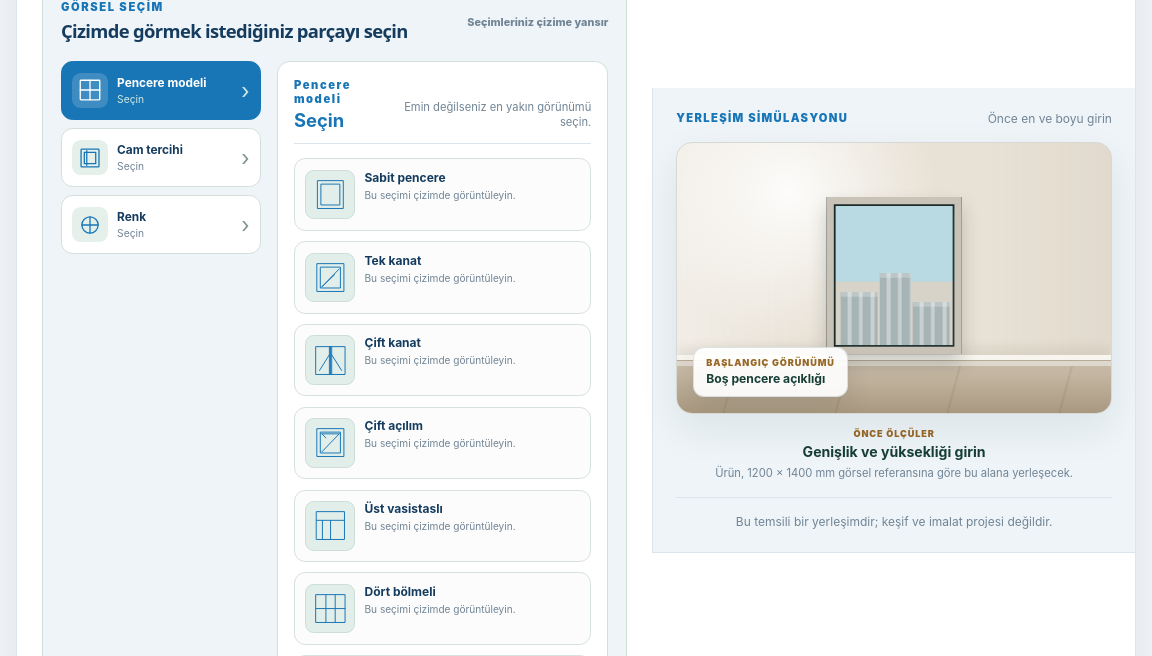
ConfiguratorComponent public boundary › selects a window model from the visual option cards
(page scrolled)
Click the button "Çift kanat Bu seçimi çizimde görüntüleyin." at (443, 360), box [294, 324, 591, 396]
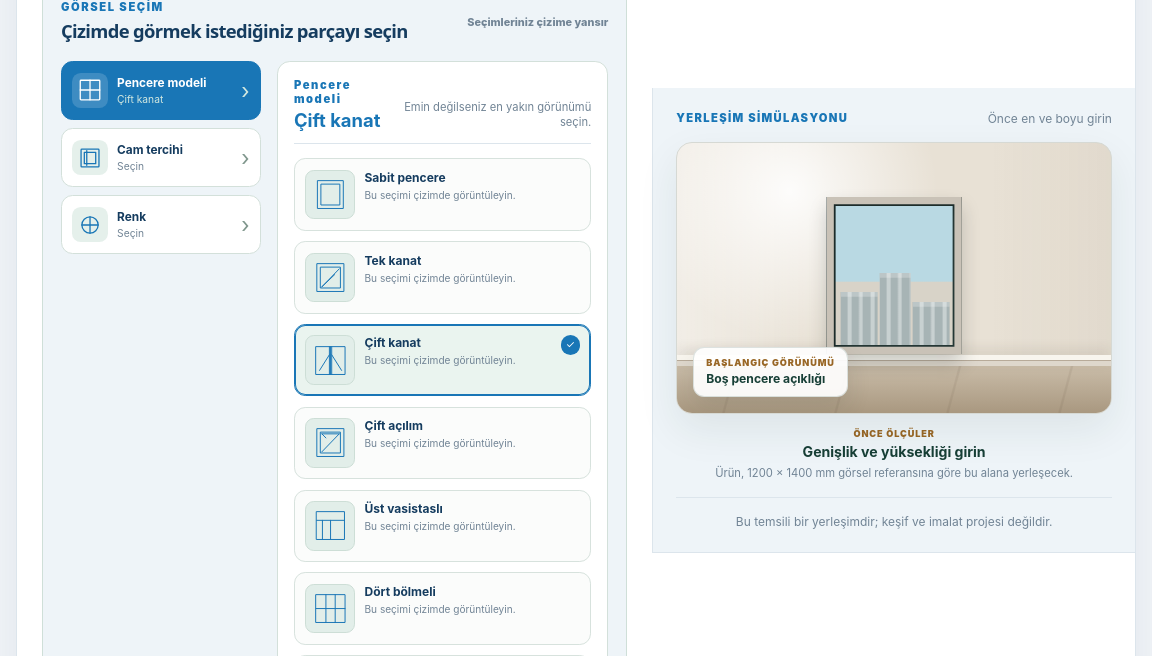
Now the 1st text "Çift kanat" is shown, box [117, 93, 163, 105]
